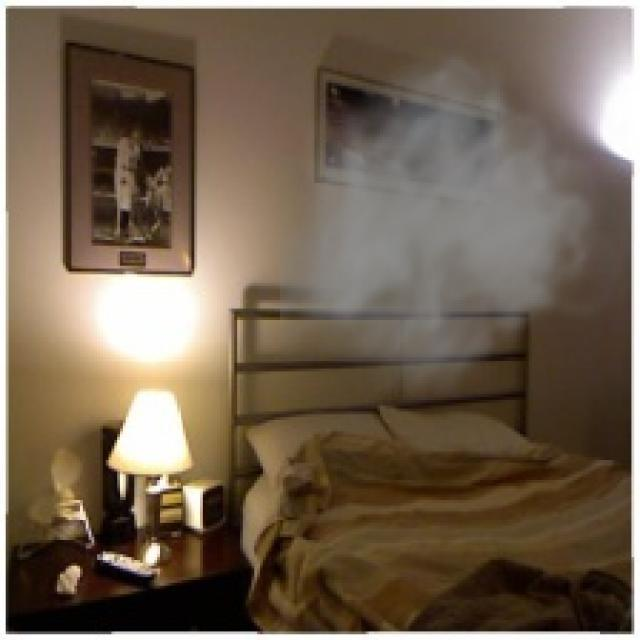Smoke: (280, 37, 634, 412)
